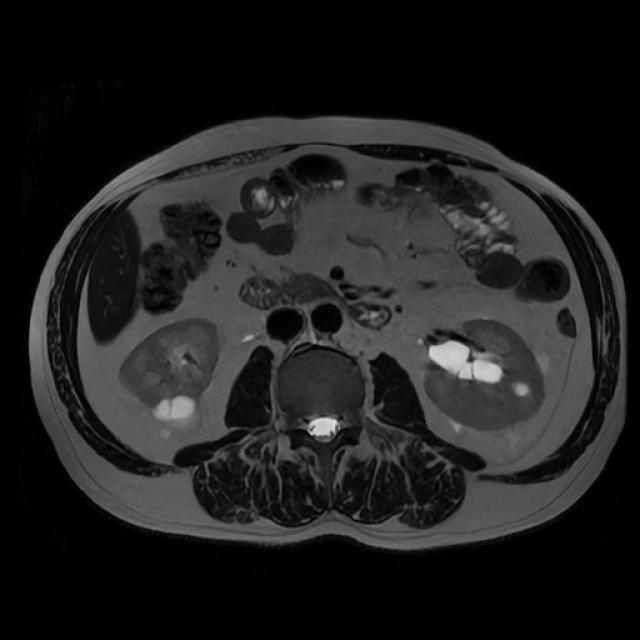sag: (123, 317, 220, 421)
sol: (426, 316, 548, 430)
